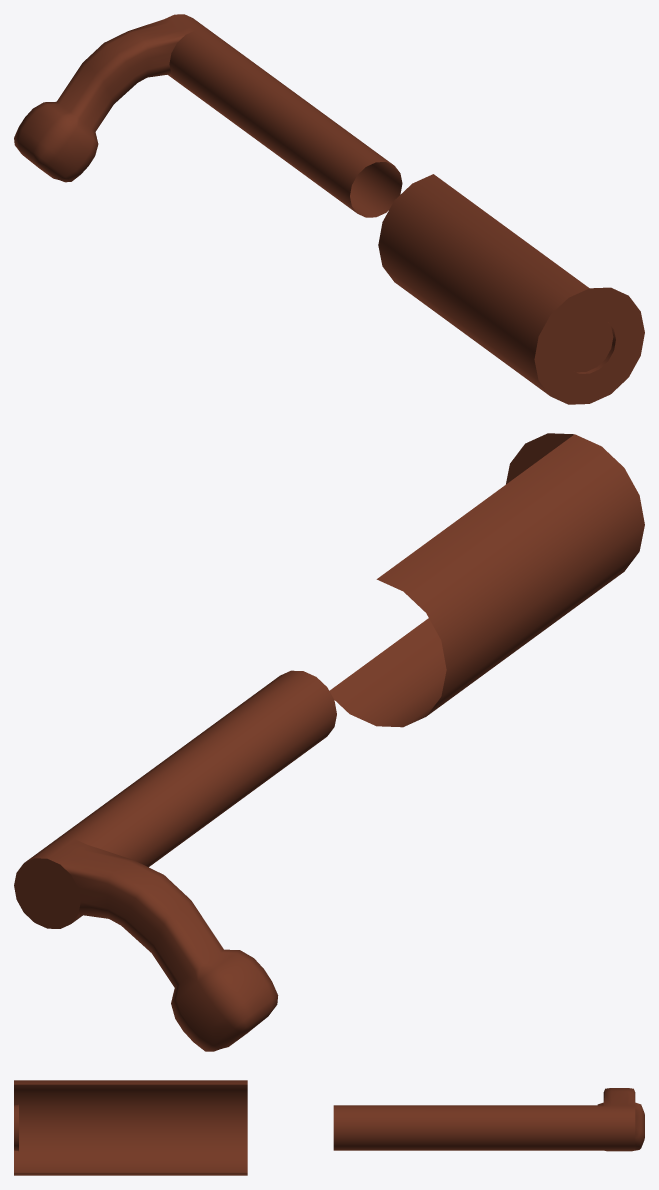
Rendered from SniperBolt.obj.
The picture shows the model from 3 angles, top to bottom: view 1: azimuth 30°, elevation 25°; view 2: azimuth 150°, elevation 25°; view 3: azimuth 270°, elevation 25°; orthographic projection. The views are drawn at different scales.
Visible parts, largest first — view 1: Bolt; view 2: Bolt; view 3: Bolt.
Boxes of the visible parts, x1,y1,x2,y2 form: Bolt: (14,14,644,404); Bolt: (14,433,644,1051); Bolt: (14,1080,644,1175).
Size of the model in its own units: 0.0448 by 0.03 by 0.1526.
